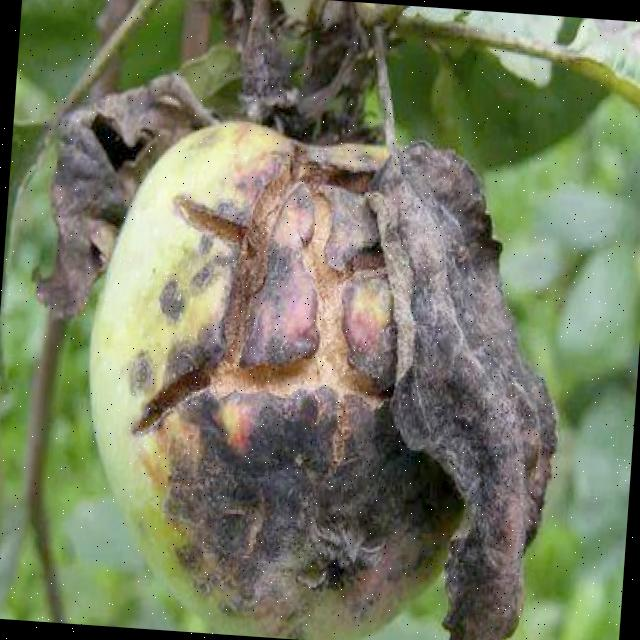rotten apple: (38, 54, 635, 640)
